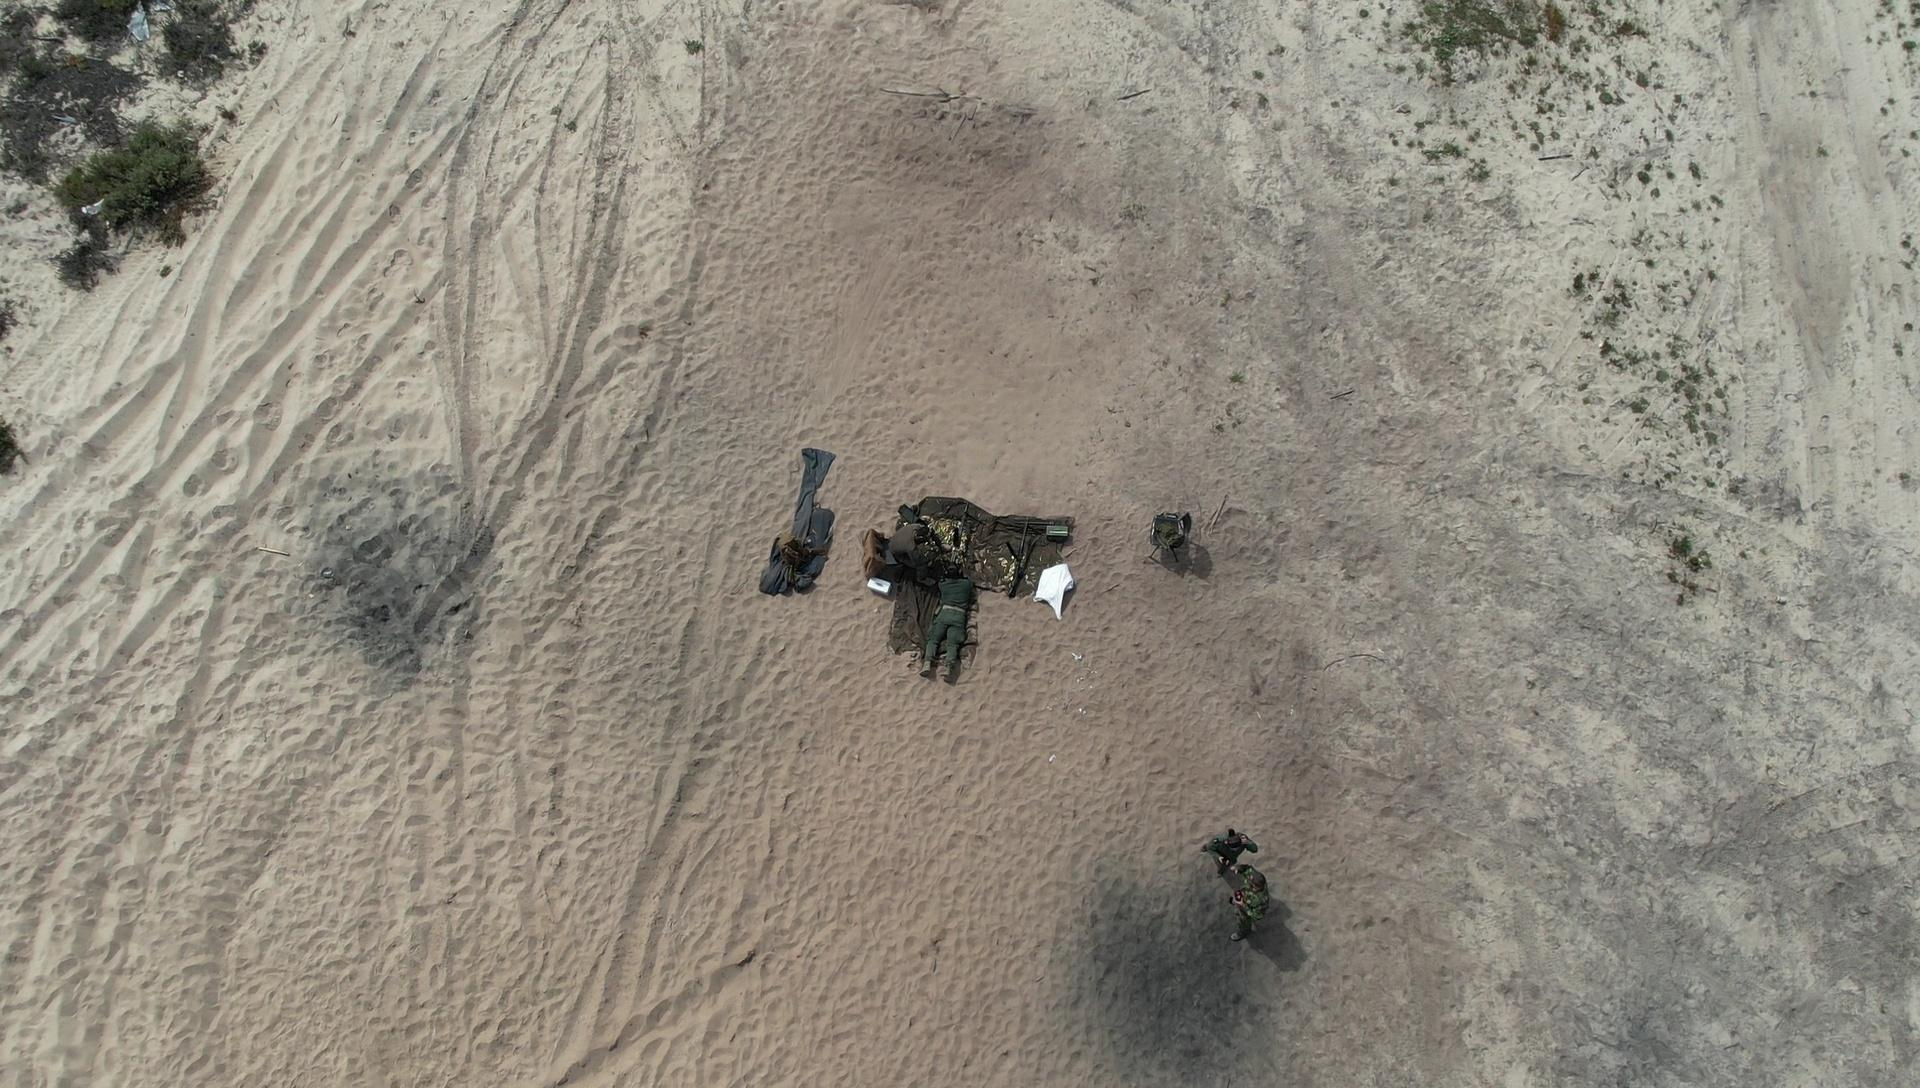Soldier: (901, 524, 982, 680), (1218, 855, 1292, 960), (1203, 824, 1265, 899), (887, 512, 934, 571)
